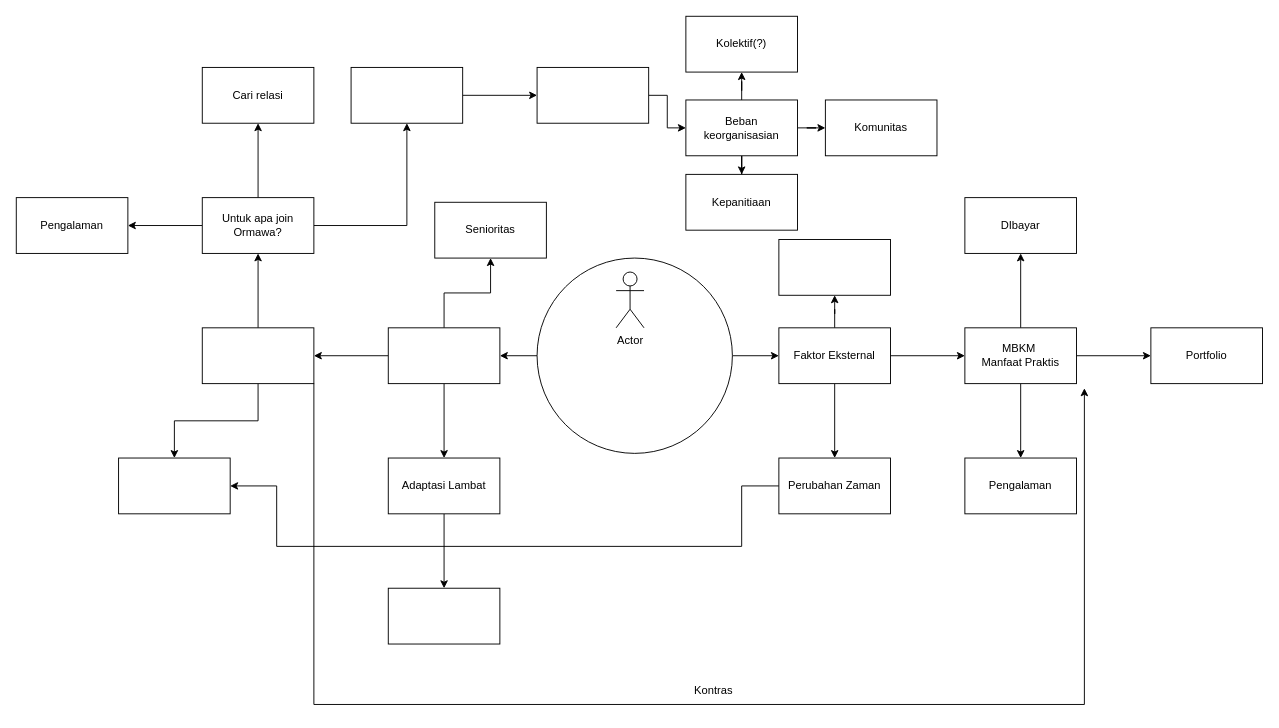
Some shapes in this 1279 by 728 pixel diagram are drawn without their labels. The shapes that lost their labels are listed below. From the top down, each one's box as (x1, y1, x2, y2) in pixels, then its label:
(350, 66, 463, 123): Aktualisasi diri Rekreatif (?)
(536, 66, 649, 123): Apakah Ormawa masih menjadi tempat yang menyenangkan?
(778, 239, 890, 295): Konteks Sejarah
(201, 327, 314, 384): Tidak Relevan (?) Minim Manfaat Praktis
(387, 327, 500, 384): Faktor Internal
(536, 257, 732, 453): Unit Kesepian Mahasiwa
(118, 457, 230, 514): Enggan berbenah
(387, 587, 500, 644): Instagram Instantsial Wajah kusam Ormawa
